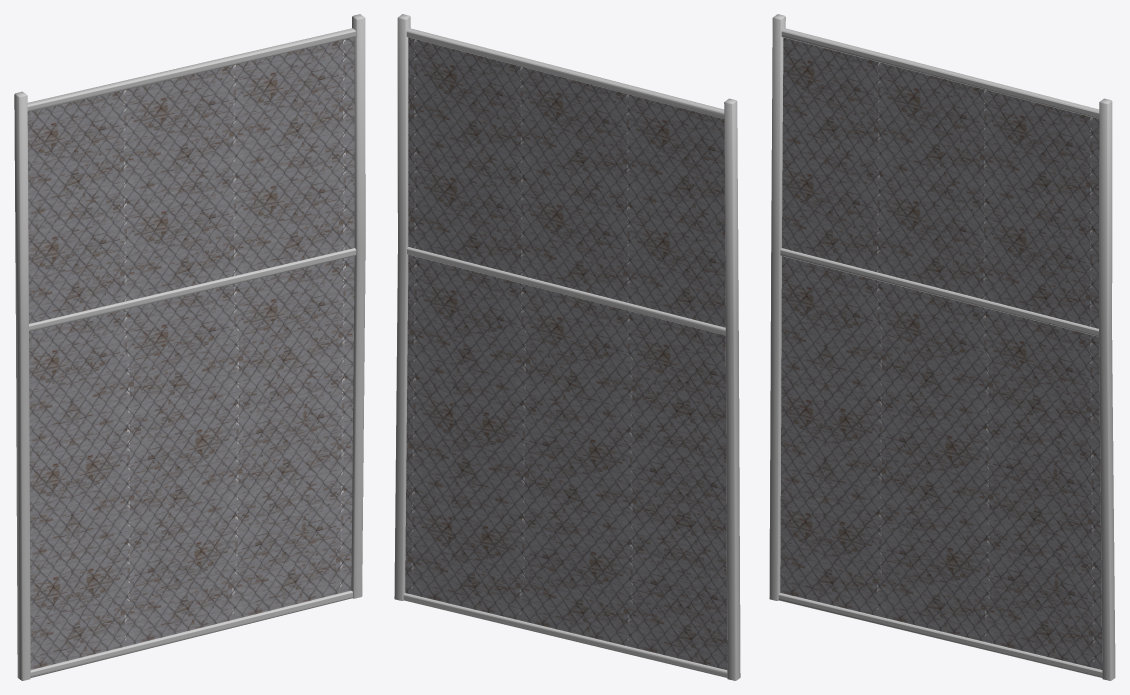
File: ChainFence01_6.FBX
3 renders of one model, left to right at view 1: azimuth 30°, elevation 25°; view 2: azimuth 150°, elevation 25°; view 3: azimuth 330°, elevation 25°, orthographic.
Parts seen in each view (by area): view 1: ChainFence01_6; view 2: ChainFence01_6; view 3: ChainFence01_6.
Boxes of the visible parts, x1,y1,x2,y2 form: ChainFence01_6: [14, 14, 365, 680]; ChainFence01_6: [394, 14, 740, 680]; ChainFence01_6: [769, 14, 1115, 680].
Size of the model in its own units: 249 by 406 by 13.21.
